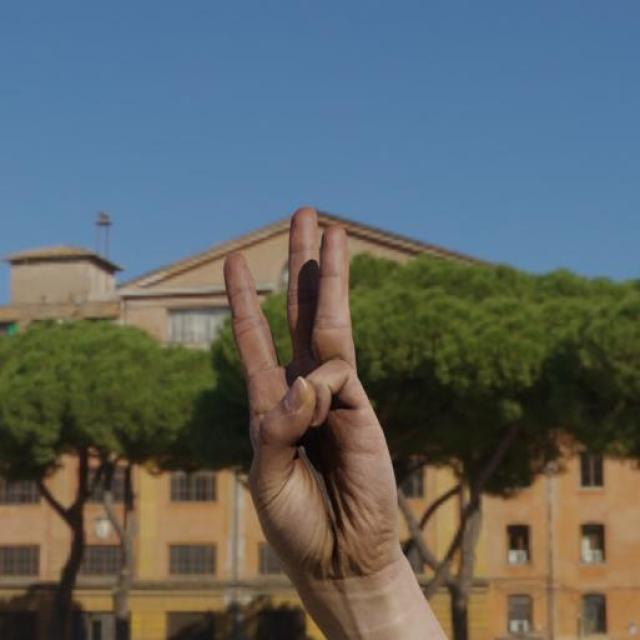W: (216, 204, 407, 595)
